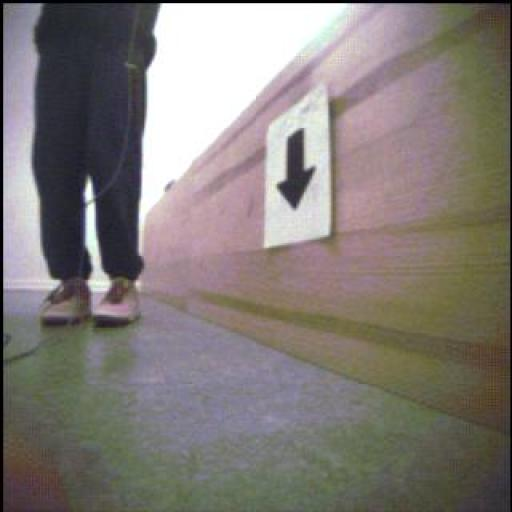arrow: (278, 129, 316, 211)
